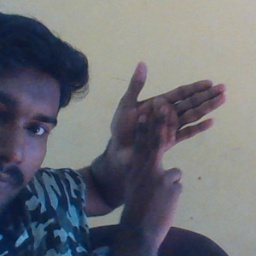N: (106, 61, 230, 214)
